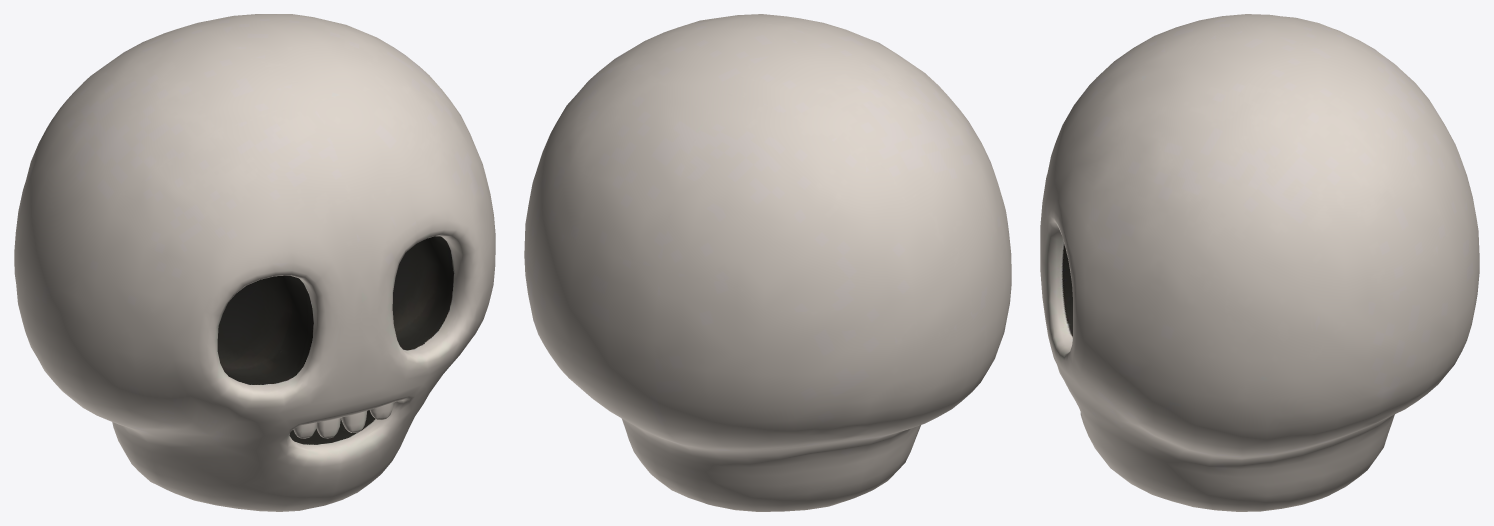
Rendered from asset_pack_item_glb-vd7d0dcraj58ycbcm7n9arqjjx8bztjr-15-ks7dzxp4xwc4pacz4yfwpc5zj98bzg2x.glb.
3 views of the same model, side by side, from view 1: azimuth 30°, elevation 25°; view 2: azimuth 150°, elevation 25°; view 3: azimuth 270°, elevation 25° (orthographic).
Parts seen in each view (by area): view 1: prop-skull; view 2: prop-skull; view 3: prop-skull.
Boxes of the visible parts, x1=… form: prop-skull: x1=14, y1=14, x2=495, y2=511; prop-skull: x1=524, y1=14, x2=1011, y2=511; prop-skull: x1=1040, y1=14, x2=1479, y2=511.
Bounding box in the file's own units: 0.998 × 0.9746 × 0.8965.
1 material, 1 textured.
